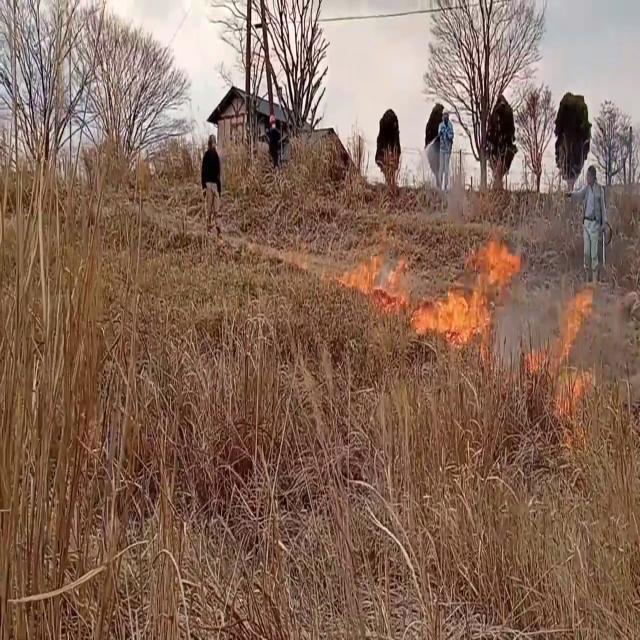Fire: (418, 231, 518, 355), (550, 274, 598, 423), (340, 238, 415, 322)
